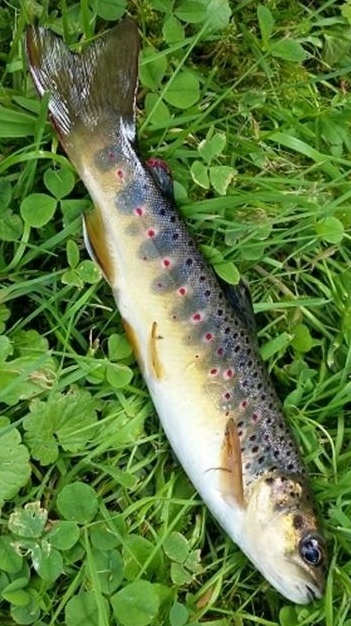Salmo trutta subsp. fario: (20, 20, 331, 606)
